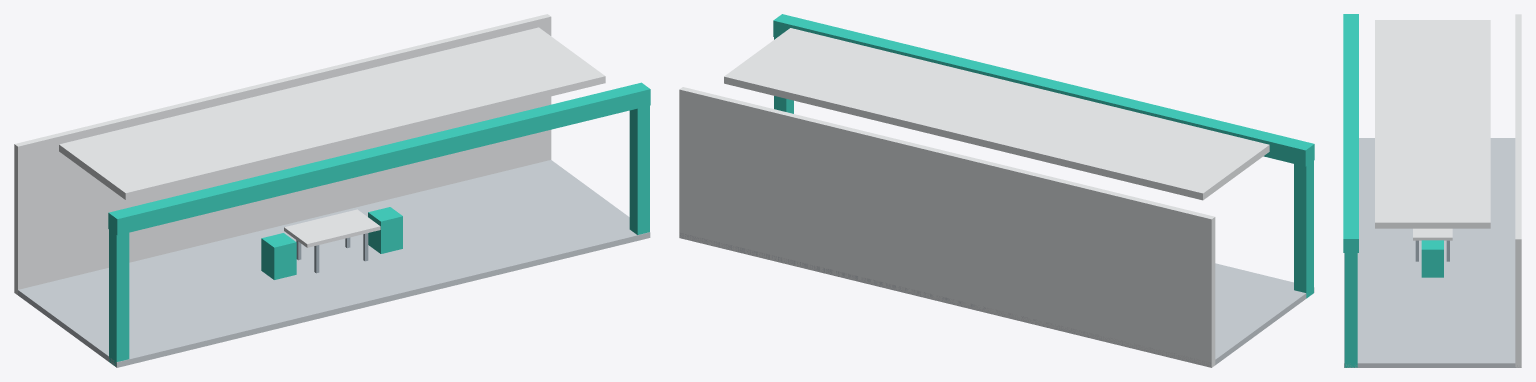
3 views of the same model, side by side, from view 1: azimuth 30°, elevation 25°; view 2: azimuth 150°, elevation 25°; view 3: azimuth 270°, elevation 25° (orthographic). The views are drawn at different scales.
Parts seen in each view (by area): view 1: Exhibition Booth Concept; view 2: Exhibition Booth Concept; view 3: Exhibition Booth Concept.
Part boxes in pixels (x1,y1,x2,y2): Exhibition Booth Concept: [14, 14, 650, 367]; Exhibition Booth Concept: [679, 14, 1314, 367]; Exhibition Booth Concept: [1343, 14, 1521, 367].
Bounding box in the file's own units: 12 × 3.34 × 4.02.
